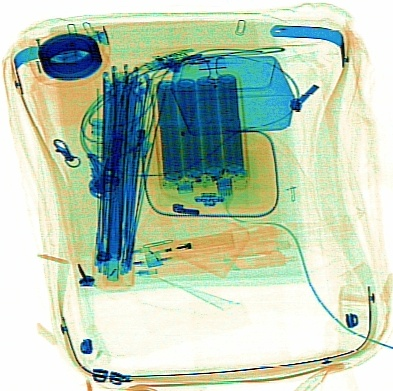lighter: (144, 226, 235, 268)
powerbank: (148, 69, 254, 205)
